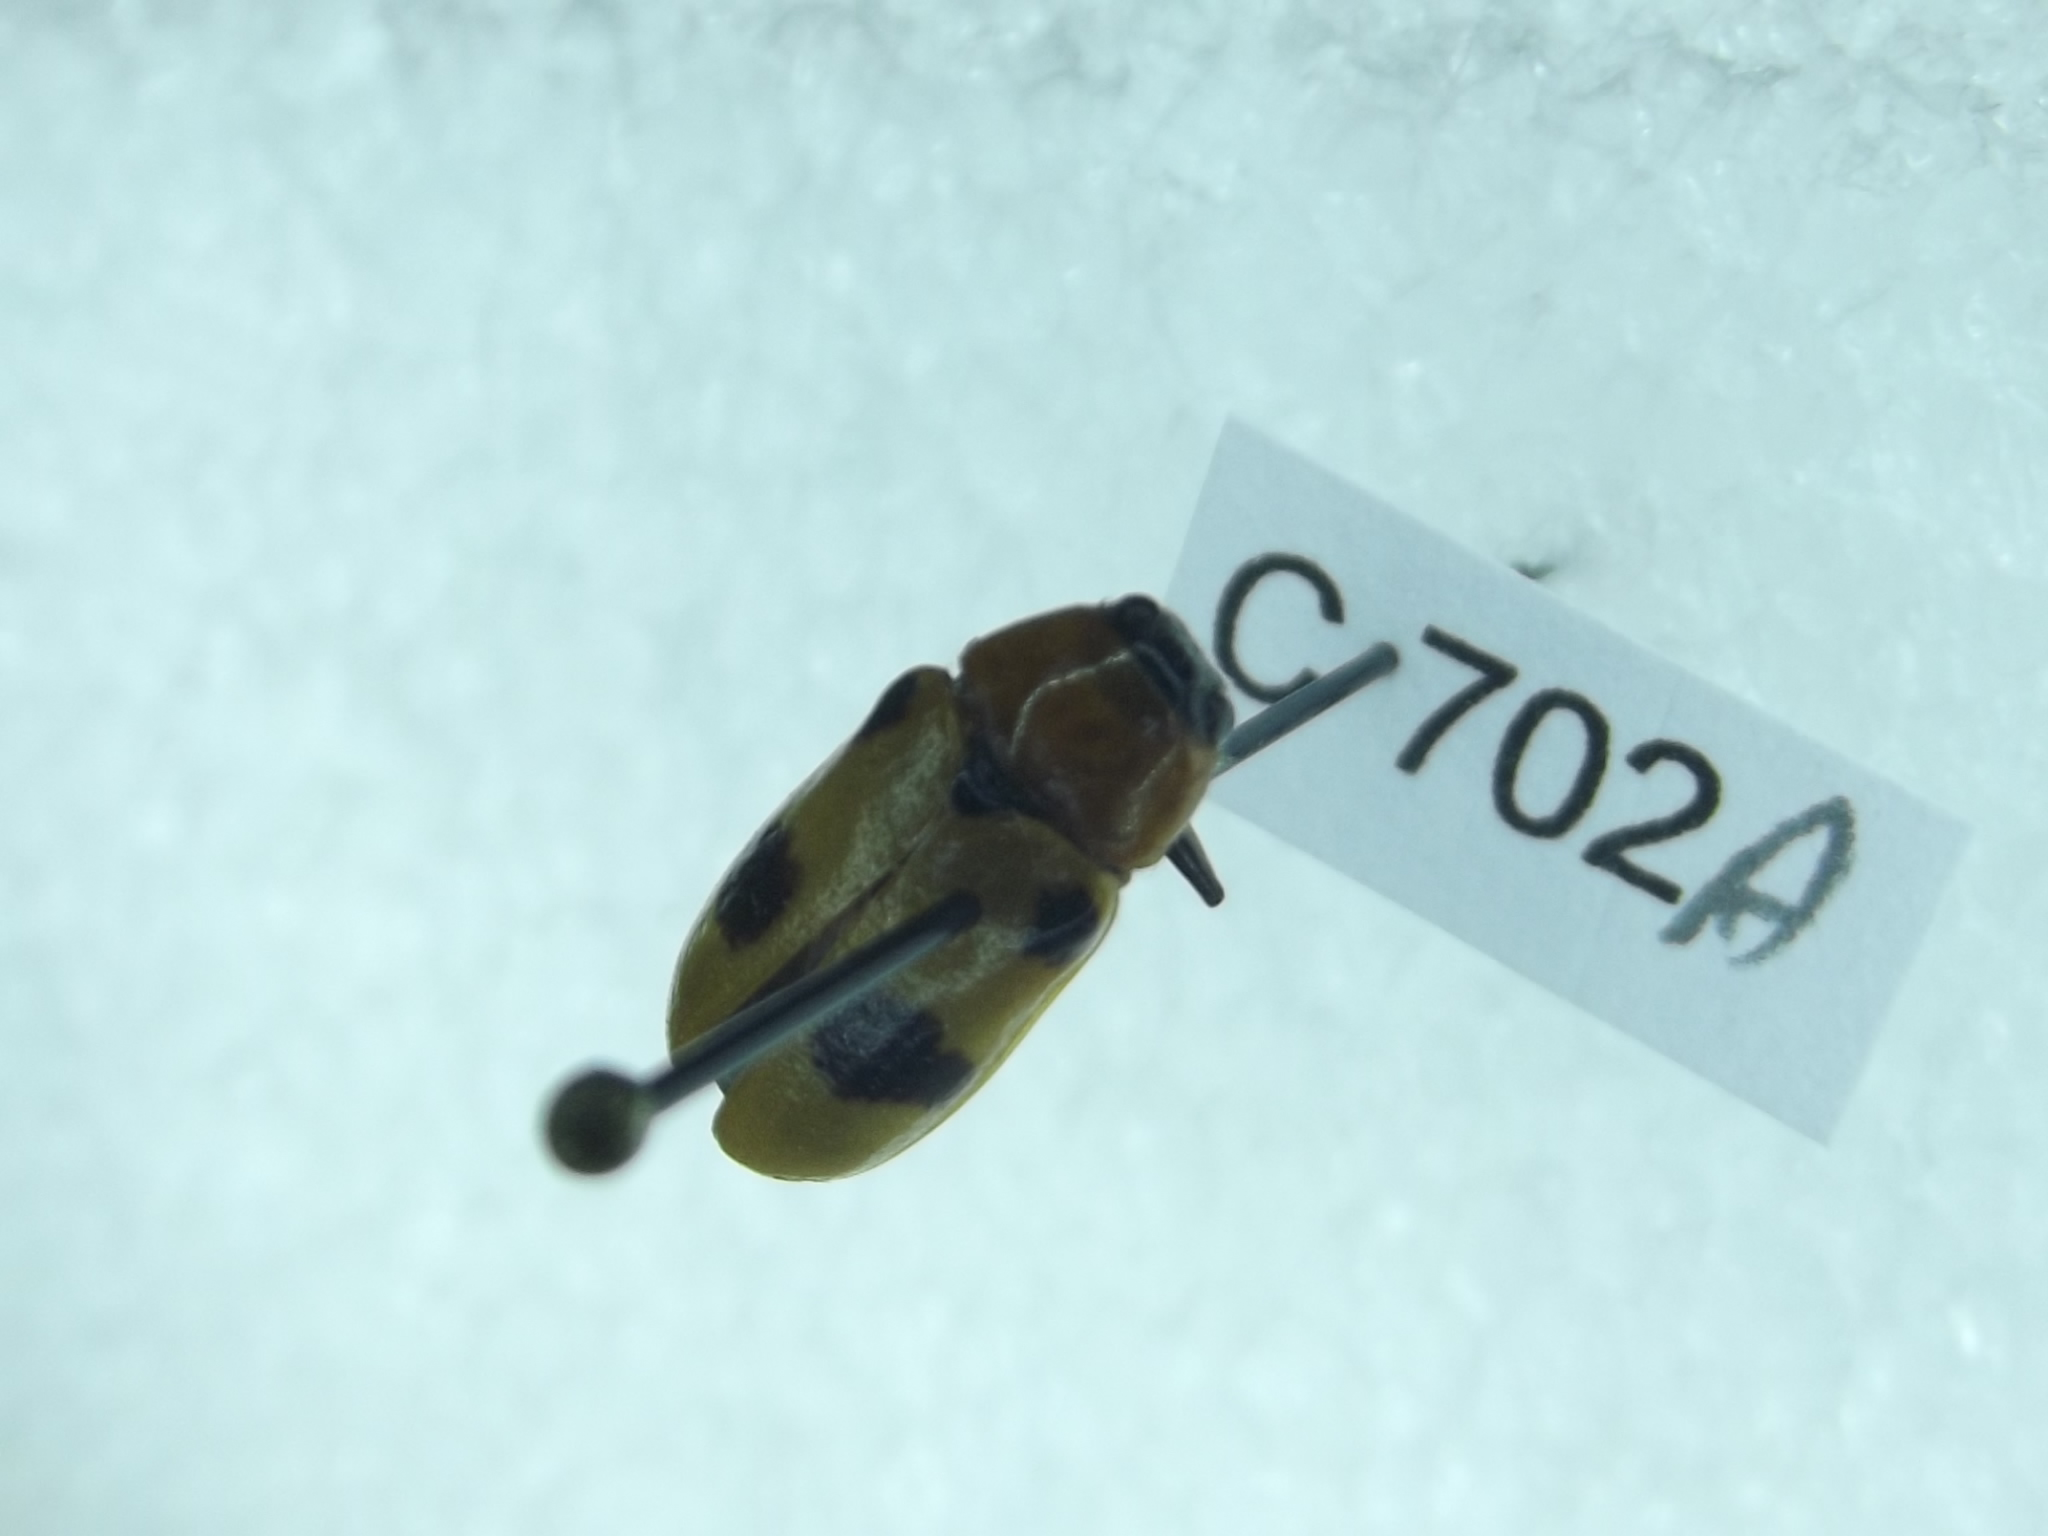Tituboea_macropus: (663, 586, 1245, 1187)
